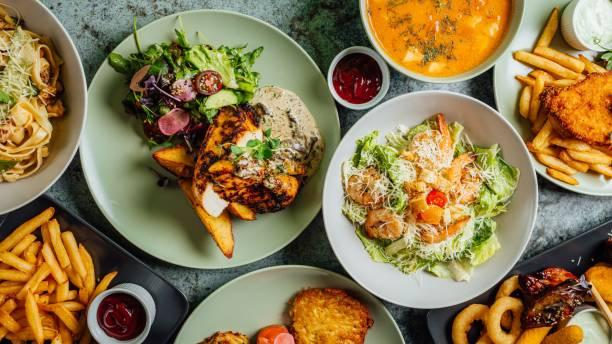Braised Crucian Carp: (86, 7, 335, 270), (322, 88, 534, 308), (1, 194, 187, 342), (492, 2, 611, 197), (359, 0, 520, 84)
